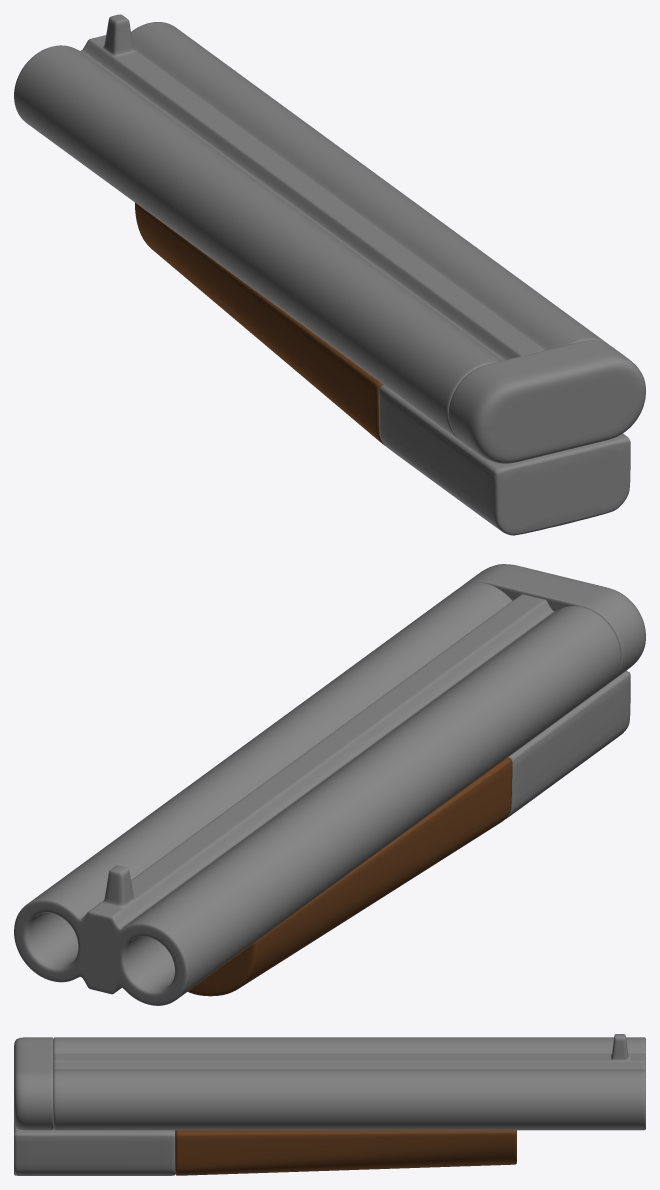
Rendered from SHOTGUNPLACEHHOLDER.fbx.
3 views of the same model, one above another, from view 1: azimuth 30°, elevation 25°; view 2: azimuth 150°, elevation 25°; view 3: azimuth 270°, elevation 25° (orthographic). The views are drawn at different scales.
Visible parts, largest first — view 1: Circle.001, Circle.003, Circle.002, Circle; view 2: Circle.001, Circle, Circle.002, Circle.003; view 3: Circle.001, Circle, Circle.002, Circle.003.
Part boxes in pixels (left/top/right/bottom): Circle.001: left=14, top=14, right=608, bottom=439; Circle.003: left=448, top=340, right=645, bottom=463; Circle.002: left=378, top=384, right=630, bottom=535; Circle: left=135, top=203, right=384, bottom=445; Circle.001: left=14, top=582, right=620, bottom=1005; Circle: left=188, top=757, right=512, bottom=996; Circle.002: left=506, top=670, right=630, bottom=818; Circle.003: left=461, top=564, right=645, bottom=681; Circle.001: left=53, top=1034, right=645, bottom=1130; Circle: left=175, top=1130, right=516, bottom=1175; Circle.002: left=14, top=1122, right=175, bottom=1175; Circle.003: left=14, top=1037, right=53, bottom=1130.
Size of the model in its own units: 2.13 by 2.13 by 9.83.
